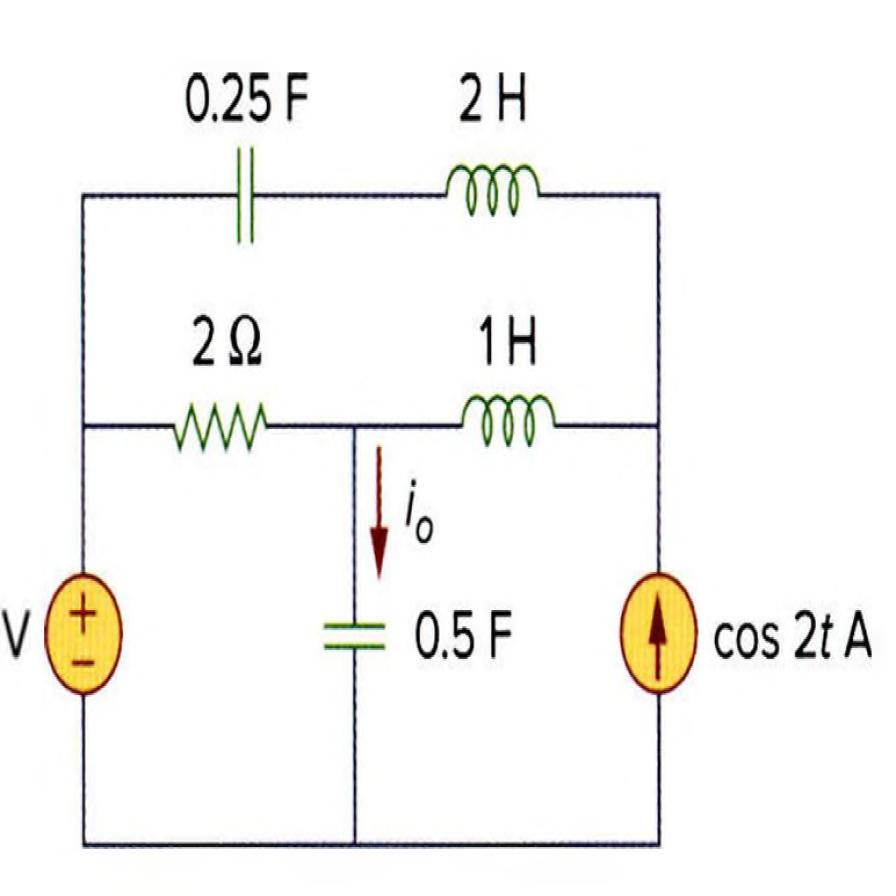C1: (216, 135, 273, 253)
C2: (314, 594, 394, 668)
I1: (618, 572, 696, 697)
L1: (449, 386, 570, 465), (434, 147, 549, 230)
R1: (153, 384, 281, 470)
V1: (44, 574, 122, 697)
